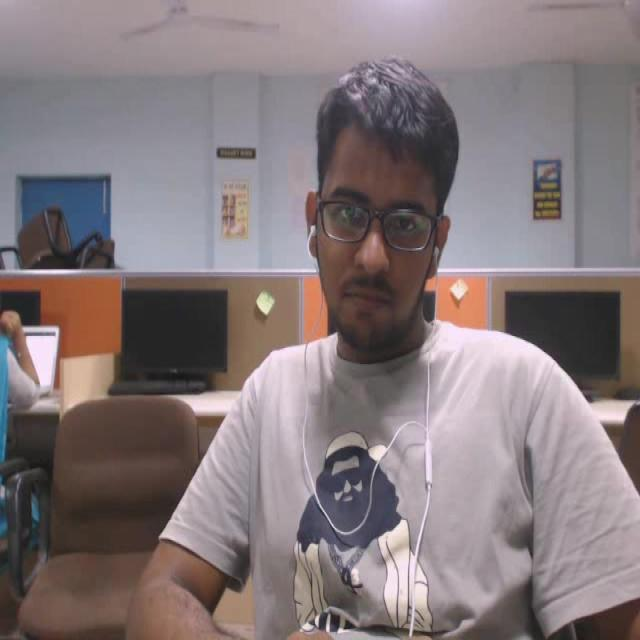Engaged: (291, 44, 477, 367)
